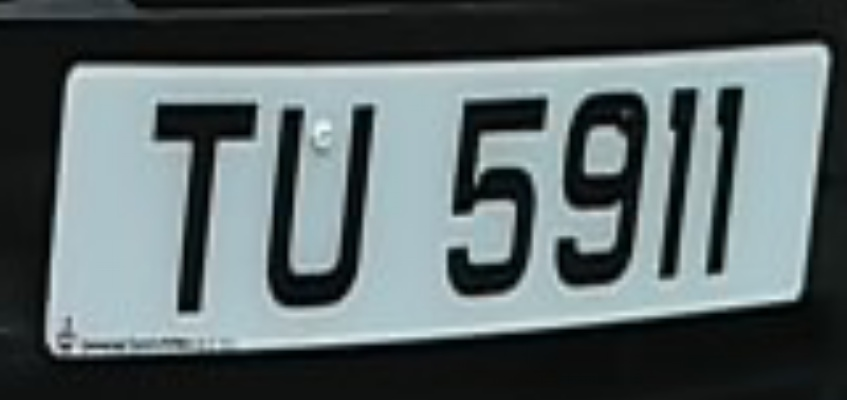1: (699, 75, 761, 286), (648, 81, 705, 292)
5: (437, 72, 549, 322)
9: (552, 80, 660, 303)
T: (129, 82, 270, 329)
U: (258, 87, 386, 322)
